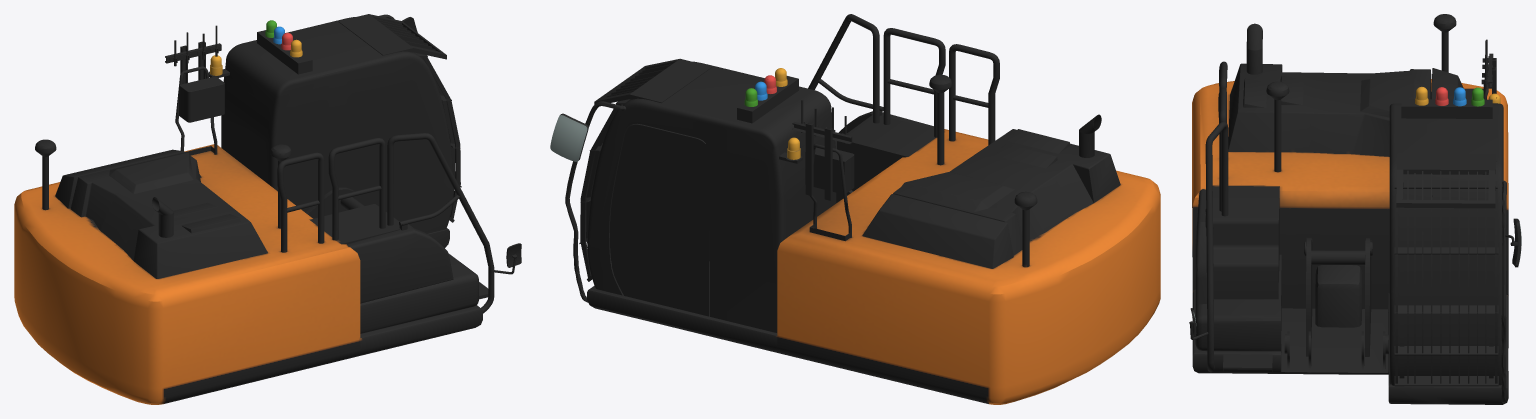
Rendered from zx200-body.dae.
3 views of the same model, side by side, from view 1: azimuth 30°, elevation 25°; view 2: azimuth 150°, elevation 25°; view 3: azimuth 270°, elevation 25° (orthographic). The views are drawn at different scales.
Visible parts, largest first — view 1: body; view 2: body; view 3: body.
Part boxes in pixels (left/top/right/bottom): body: left=14, top=14, right=521, bottom=404; body: left=550, top=14, right=1160, bottom=404; body: left=1189, top=14, right=1521, bottom=404.
Size of the model in its own units: 4.65 by 2.78 by 2.34.
Materials: 1 (1 with a texture image).
